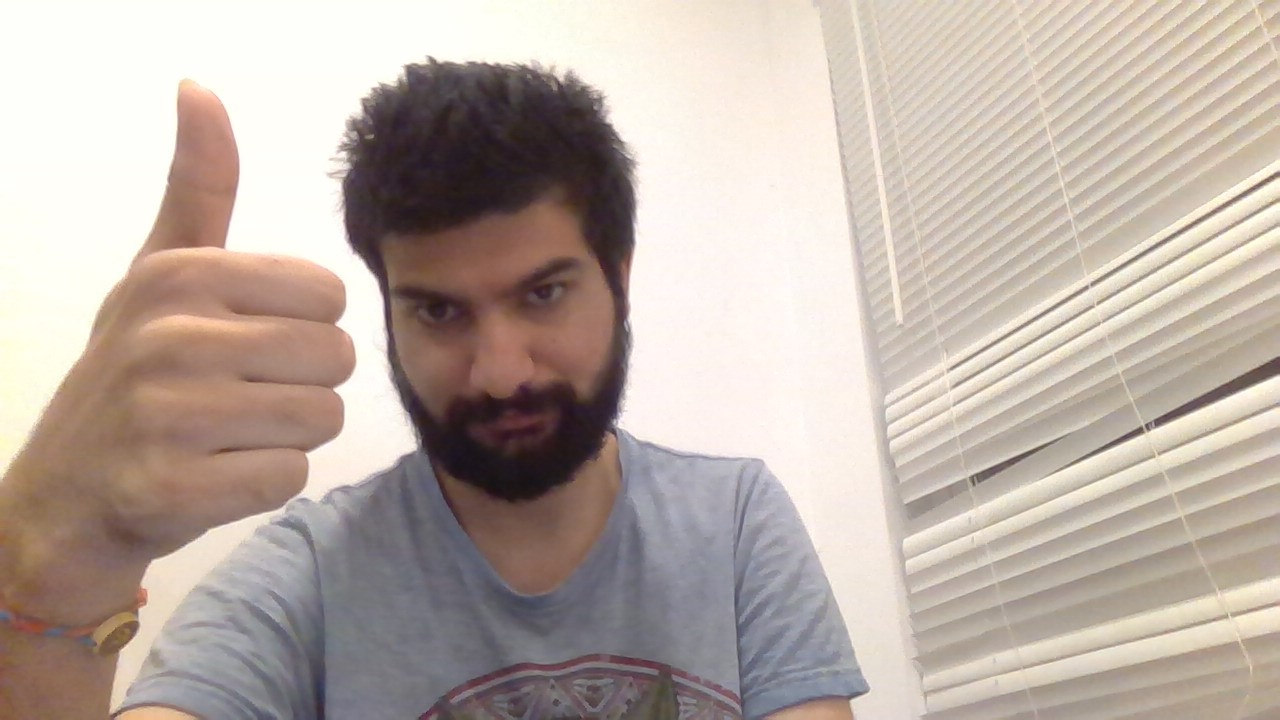up: (93, 63, 366, 539)
